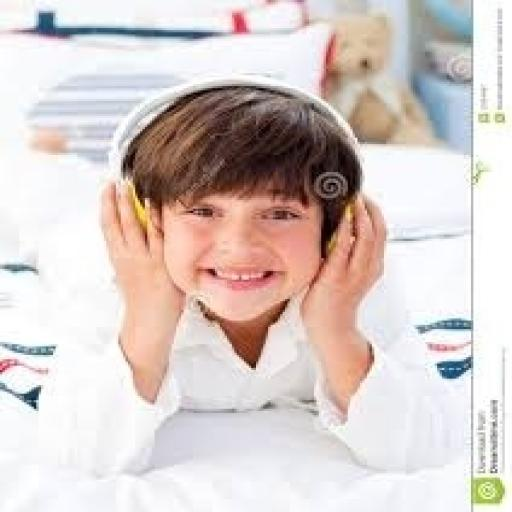listening_to_music: (31, 73, 464, 482)
